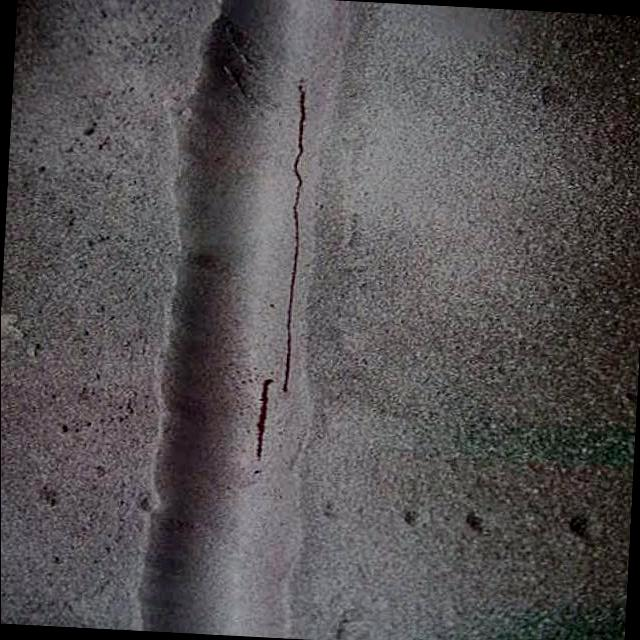defect: (276, 71, 312, 402), (249, 376, 278, 470)
